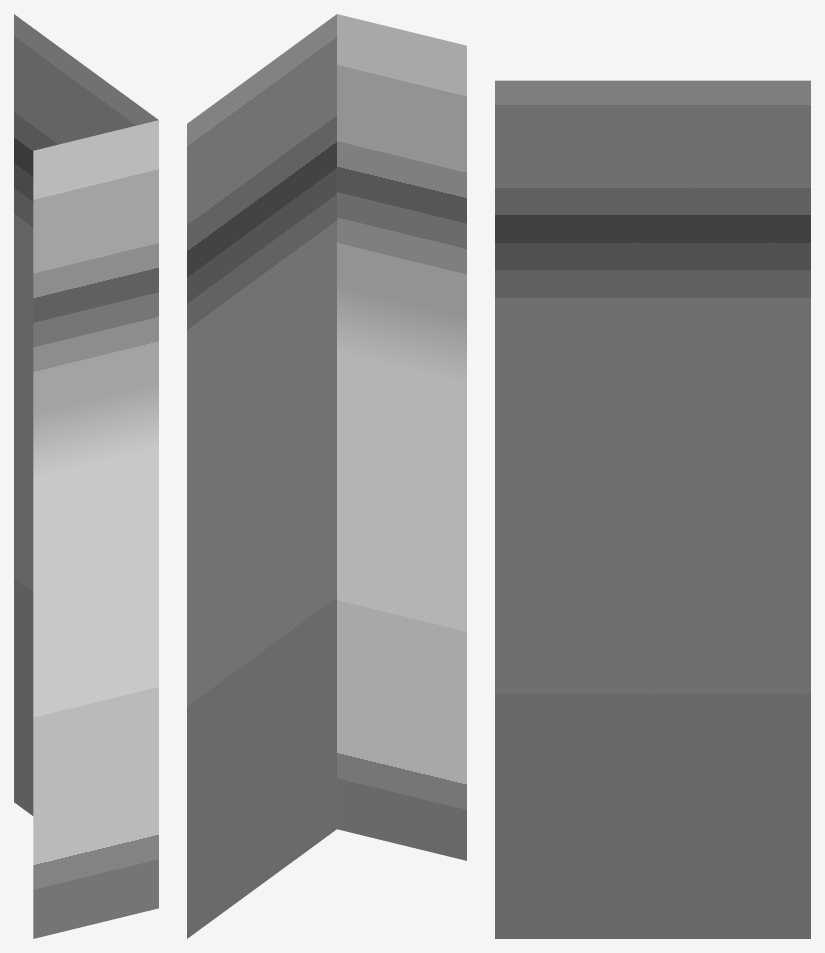
The picture shows the model from 3 angles, left to right: view 1: azimuth 30°, elevation 25°; view 2: azimuth 150°, elevation 25°; view 3: azimuth 270°, elevation 25°; orthographic projection. The views are drawn at different scales.
Size of the model in its own units: 0.5 by 3 by 1.
2 materials, 2 textured.
